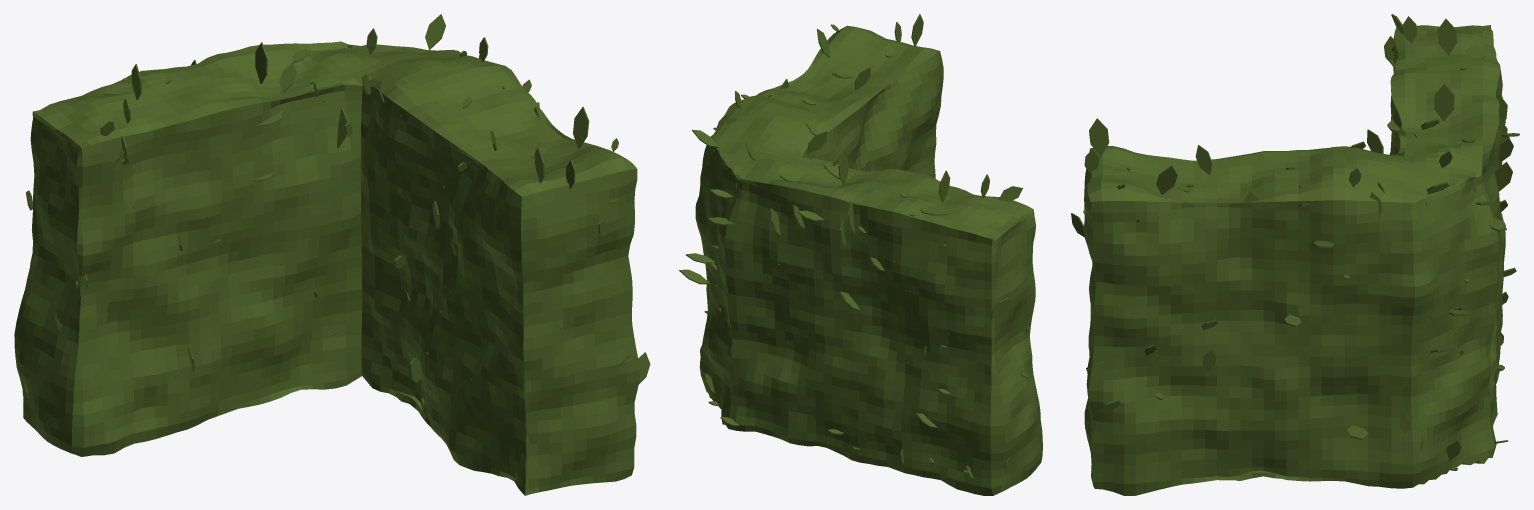
Rendered from WallRightAngle.fbx.
3 views of the same model, side by side, from view 1: azimuth 30°, elevation 25°; view 2: azimuth 150°, elevation 25°; view 3: azimuth 270°, elevation 25° (orthographic). The views are drawn at different scales.
Visible parts, largest first — view 1: Sphere; view 2: Sphere; view 3: Sphere.
Part boxes in pixels (left/top/right/bottom): Sphere: left=14, top=14, right=650, bottom=495; Sphere: left=679, top=14, right=1042, bottom=495; Sphere: left=1071, top=14, right=1519, bottom=495.
Size of the model in its own units: 811 by 642 by 761.
